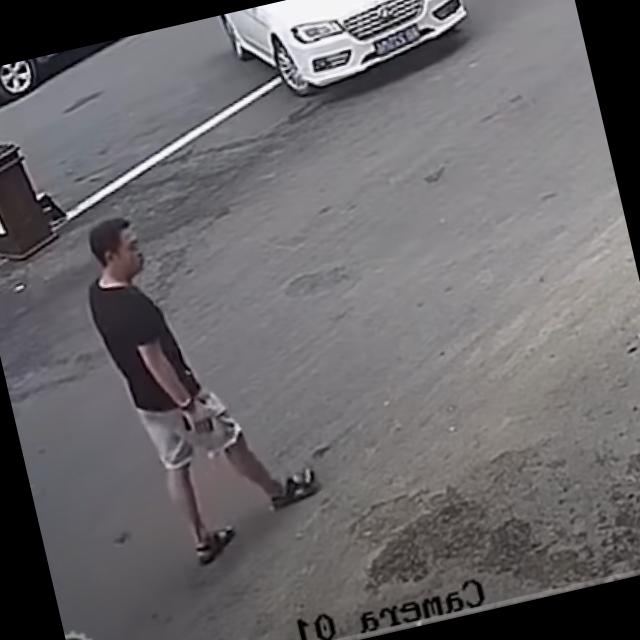person: (72, 191, 322, 574)
